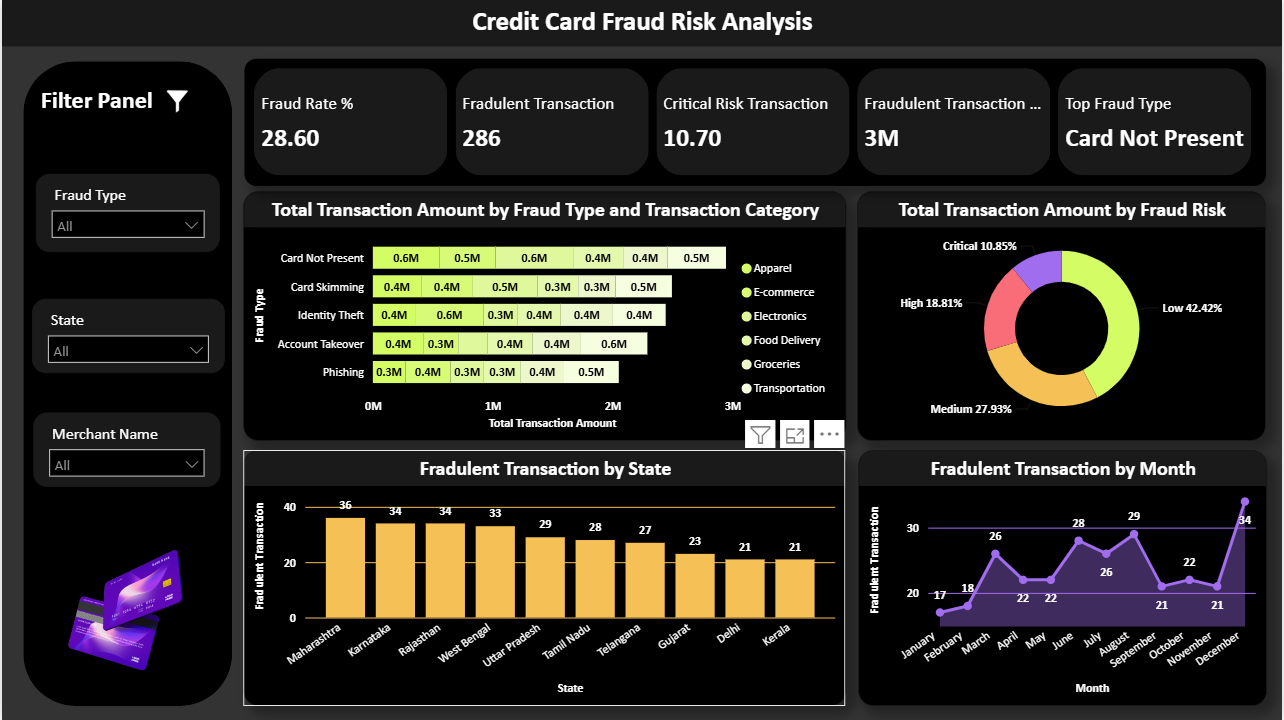

The page's visual inventory and layout, read from the dashboard file:
{"tool":"powerbi","page":{"name":"Page 1","canvas":[1280,720],"ordinal":0},"visuals":[{"type":"textbox","box":[0,0,1280.6,46.3],"z":0},{"type":"shape","box":[20.9,61.2,209,644.8],"z":1000},{"type":"textbox","box":[34.3,80.6,141.8,46.3],"z":2000},{"type":"image","box":[144.8,80.6,61.2,43.3],"z":3000},{"type":"barChart","fields":{"Y":["Credit Card Fraud Risk Analysis.Total Transaction Amount"],"Category":["Credit Card Fraud Risk Analysis.Fraud Type"],"Series":["Credit Card Fraud Risk Analysis.Transaction Category"]},"box":[241.8,191,603,249.3],"z":4000},{"type":"donutChart","fields":{"Y":["Credit Card Fraud Risk Analysis.Total Transaction Amount"],"Category":["Credit Card Fraud Risk Analysis.Fraud Risk"]},"box":[855.2,191,409,249.3],"z":5000},{"type":"columnChart","fields":{"Category":["Credit Card Fraud Risk Analysis.State"],"Y":["Credit Card Fraud Risk Analysis.Fradulent Transaction"]},"box":[241.4,450,602.9,255.7],"z":6000},{"type":"lineChart","fields":{"Y":["Credit Card Fraud Risk Analysis.Fradulent Transaction"],"Category":["Credit Card Fraud Risk Analysis.Transaction Date.Variation.Date Hierarchy.Month"]},"box":[855.7,450,408.6,255.7],"z":7000},{"type":"slicer","fields":{"Values":["Credit Card Fraud Risk Analysis.Fraud Type"]},"box":[34.3,174.3,184.3,78.6],"z":8000},{"type":"slicer","fields":{"Values":["Credit Card Fraud Risk Analysis.State"]},"box":[30,298.6,192.9,74.3],"z":9000},{"type":"slicer","fields":{"Values":["Credit Card Fraud Risk Analysis.Merchant Name"]},"box":[31.4,412.9,187.1,74.3],"z":10000},{"type":"image","box":[0,530,191.4,162.9],"z":11000},{"type":"cardVisual","fields":{"Data":["Credit Card Fraud Risk Analysis.Fraud Rate %","Credit Card Fraud Risk Analysis.Fradulent Transaction","Credit Card Fraud Risk Analysis.Critical Risk Transaction","Credit Card Fraud Risk Analysis.Fraudulent Transaction Amount","Credit Card Fraud Risk Analysis.Top Fraud Type"]},"box":[242.9,58.6,1021.4,127.1],"z":12000}]}

Visuals, with their boxes in screenshot pixels (x1, y1, x2, y2), scaled from the page's 1280x720 canvas onto the 1284x720 screenshot:
textbox: bbox=(0, 0, 1283, 46)
shape: bbox=(21, 61, 231, 706)
textbox: bbox=(34, 81, 177, 127)
image: bbox=(145, 81, 207, 124)
barChart - Credit Card Fraud Risk Analysis.Total Transaction Amount x Credit Card Fraud Risk Analysis.Fraud Type: bbox=(243, 191, 847, 440)
donutChart - Credit Card Fraud Risk Analysis.Total Transaction Amount x Credit Card Fraud Risk Analysis.Fraud Risk: bbox=(858, 191, 1268, 440)
columnChart - Credit Card Fraud Risk Analysis.State x Credit Card Fraud Risk Analysis.Fradulent Transaction: bbox=(242, 450, 847, 706)
lineChart - Credit Card Fraud Risk Analysis.Fradulent Transaction x Credit Card Fraud Risk Analysis.Transaction Date.Variation.Date Hierarchy.Month: bbox=(858, 450, 1268, 706)
slicer - Credit Card Fraud Risk Analysis.Fraud Type: bbox=(34, 174, 219, 253)
slicer - Credit Card Fraud Risk Analysis.State: bbox=(30, 299, 224, 373)
slicer - Credit Card Fraud Risk Analysis.Merchant Name: bbox=(31, 413, 219, 487)
image: bbox=(0, 530, 192, 693)
cardVisual - Credit Card Fraud Risk Analysis.Fraud Rate % x Credit Card Fraud Risk Analysis.Fradulent Transaction: bbox=(244, 59, 1268, 186)
